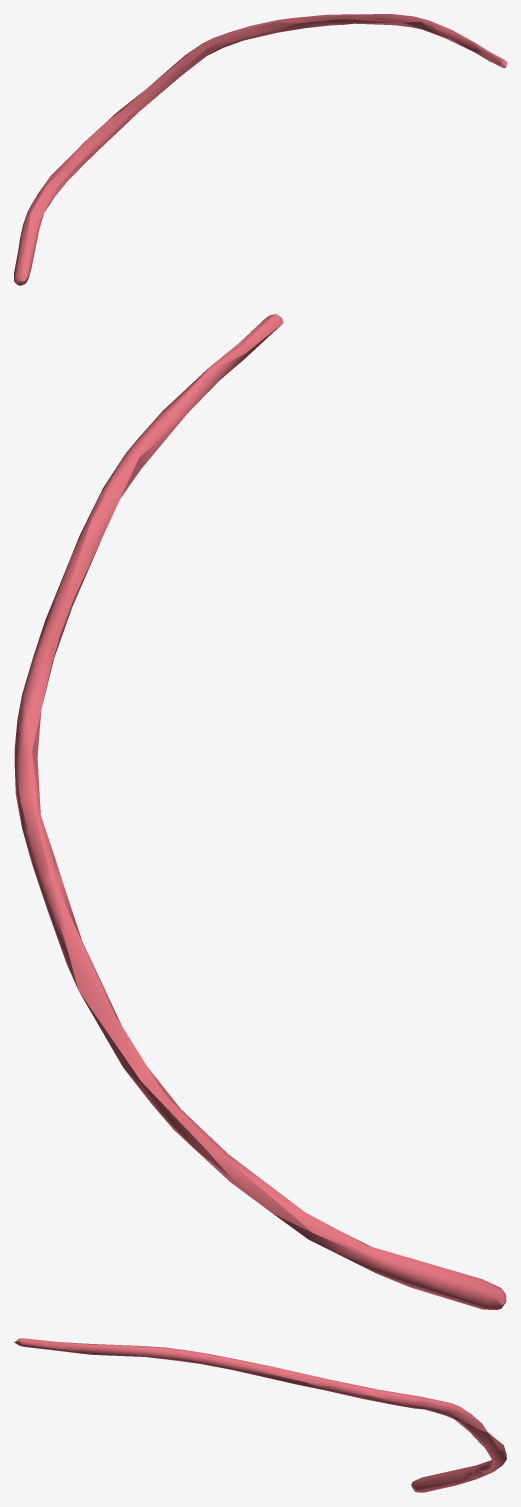
Rendered from fma51330_fj5200.glb.
3 views of the same model, one above another, from view 1: azimuth 30°, elevation 25°; view 2: azimuth 150°, elevation 25°; view 3: azimuth 270°, elevation 25° (orthographic). The views are drawn at different scales.
Visible parts, largest first — view 1: FMA51330_FJ5200; view 2: FMA51330_FJ5200; view 3: FMA51330_FJ5200.
Boxes of the visible parts, x1,y1,x2,y2 form: FMA51330_FJ5200: [14, 14, 506, 285]; FMA51330_FJ5200: [14, 314, 506, 1309]; FMA51330_FJ5200: [14, 1338, 506, 1492].
Size of the model in its own units: 0.0253 by 0.0228 by 0.0332.
